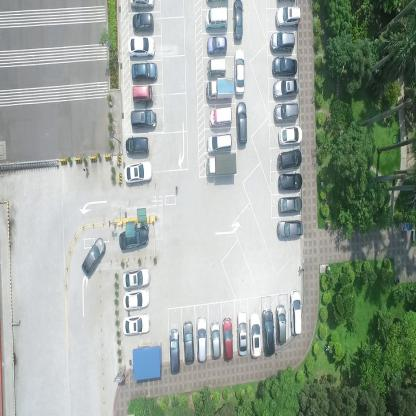car: (81, 236, 106, 277), (205, 151, 237, 178), (119, 224, 150, 251), (204, 75, 233, 101), (124, 159, 152, 184), (122, 266, 151, 290), (121, 312, 151, 335), (275, 5, 301, 30), (122, 287, 150, 310), (262, 309, 275, 357), (127, 35, 155, 57), (204, 6, 228, 31), (249, 314, 262, 360), (235, 100, 248, 146), (182, 319, 195, 365), (272, 78, 299, 100), (276, 218, 303, 240), (130, 61, 158, 82), (236, 310, 248, 358), (290, 288, 302, 336), (196, 316, 208, 364), (168, 328, 180, 376), (273, 102, 299, 124), (206, 132, 232, 154), (276, 148, 302, 170), (130, 108, 157, 129), (234, 46, 245, 97), (208, 105, 232, 128), (222, 318, 234, 364), (270, 31, 295, 53), (278, 125, 302, 147), (278, 194, 302, 216), (271, 56, 297, 76), (278, 172, 303, 192), (132, 12, 154, 33), (125, 136, 150, 154), (210, 322, 221, 362), (276, 302, 286, 346), (206, 35, 228, 55), (132, 85, 154, 105), (233, 0, 243, 41), (207, 58, 226, 78), (129, 0, 156, 11)
